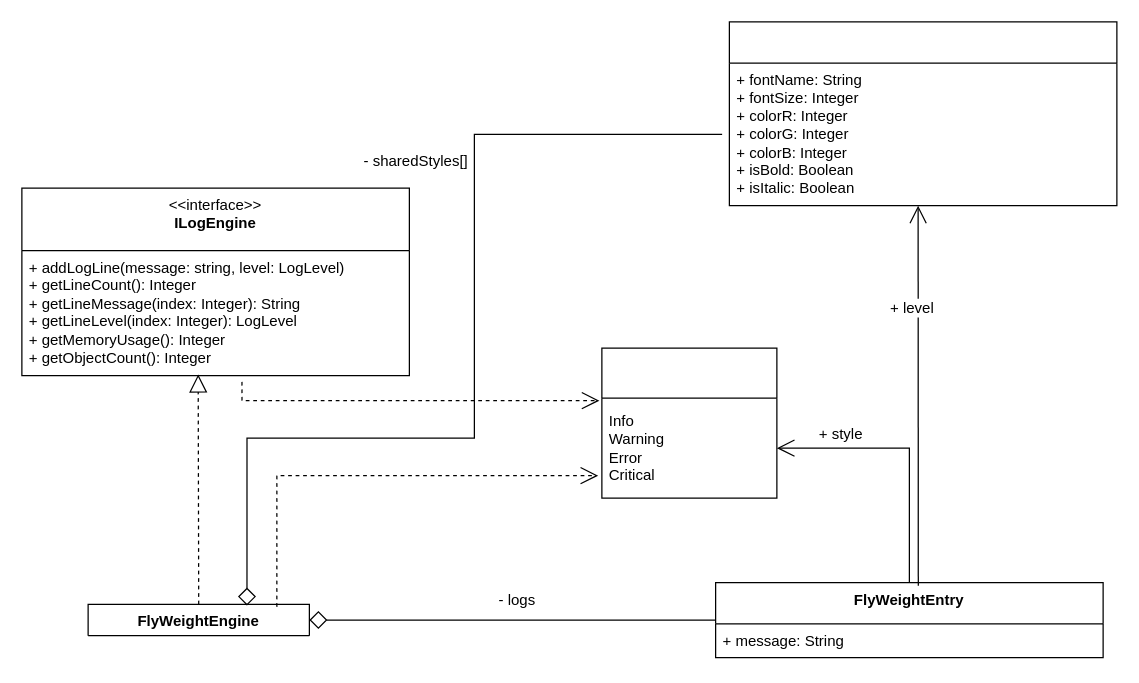
Image size: 1139x683. Some labels were removed from this diagram. The box of each missing label's shape, as (x1, y1, x2, y2) in pixels:
<<enumeration>> LogLevel: (601, 347, 777, 498)
LogStyle: (728, 21, 1117, 206)
